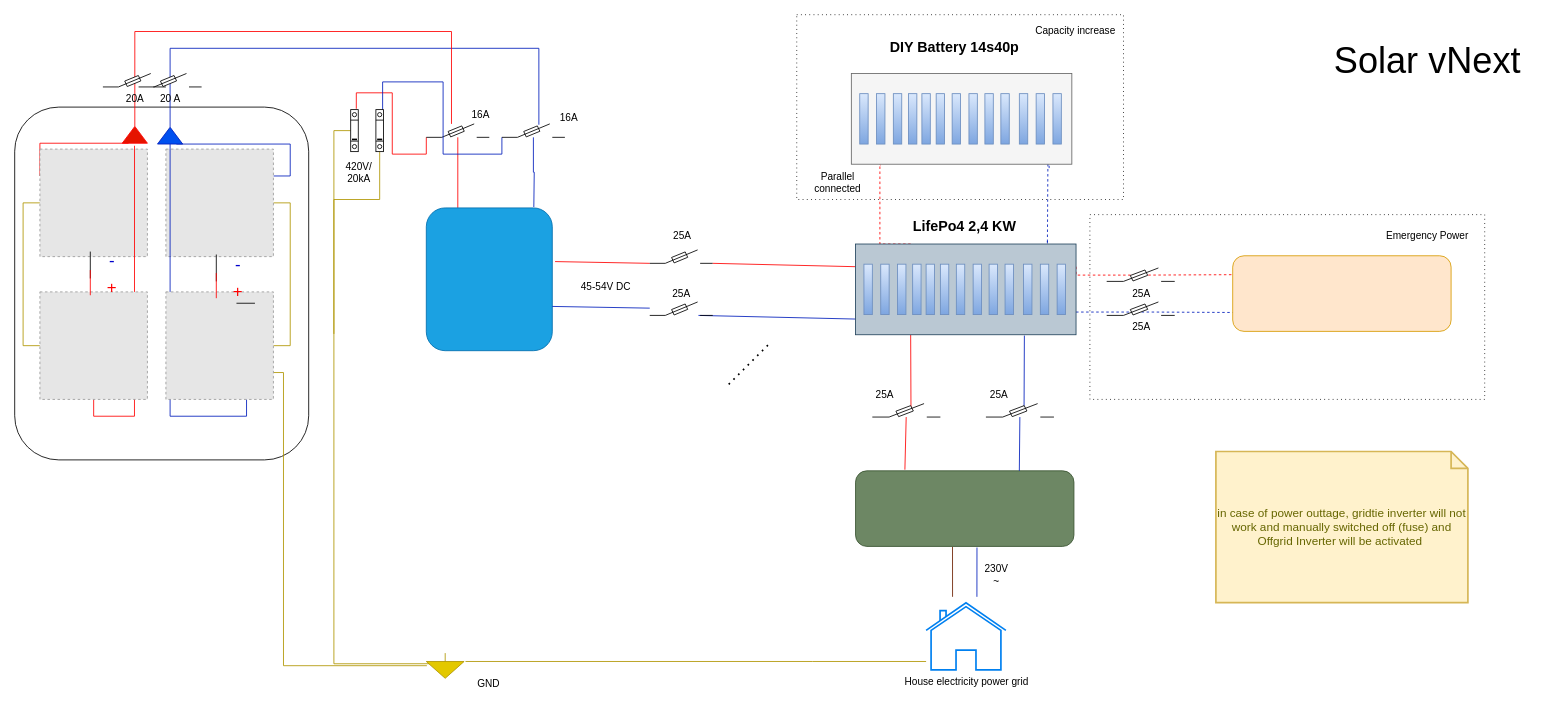
Some shapes in this 1564 by 707 pixel diagram are drawn without their labels. Grey dashed boxes stand in for pictures. The shapes that lost their labels are listed below. From the top down, each one's centre as x and y in pixels, then its label:
At [488,279]: "PowMr MPPT (max 60A) Solar Charge Controller".
At [1341,293]: "OffGrid Inverter (Emergency Power; 1,2 KW cont.)".
At [964,508]: "SUN-2000G2 (Limiter active; max 1,2 KW)".
